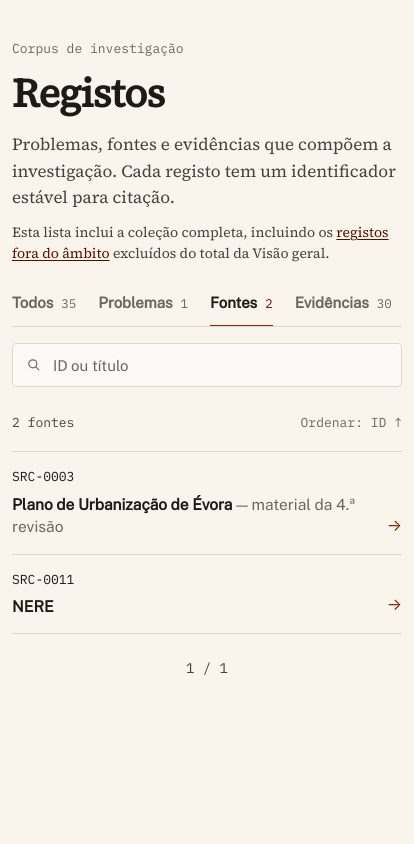
Test case: RecordsTable — sorting › the compact toolbar reports the count and reverses the active sort
Expected: the text with class "records-compact-count" reads "2 fontes", [12,414,74,431]
Click the button "Ordenar: ID ↑" at (351, 423), box [301,407,402,439]
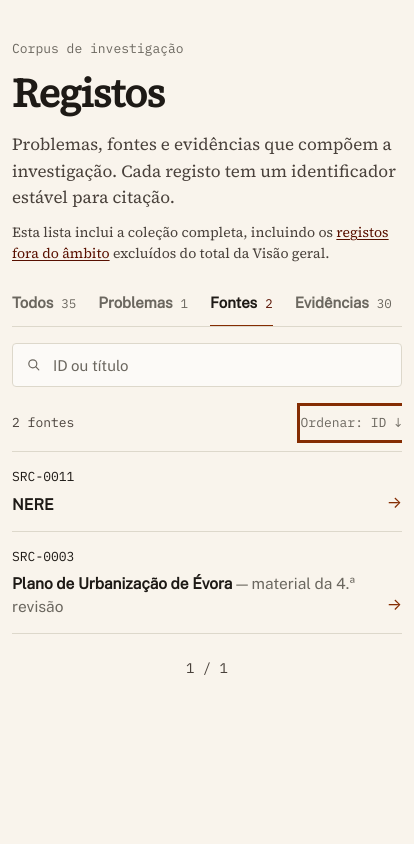
Now the button "Ordenar: ID ↓" is shown, box [301,407,402,439]
